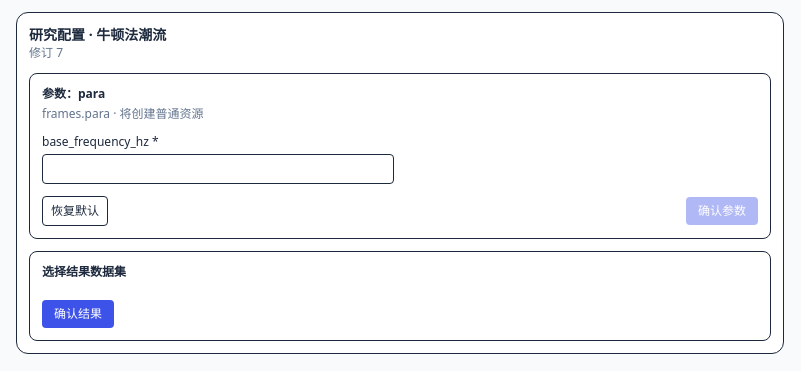
StudyConfigurationCard › shows the final confirmation after saving the last required parameter
This screenshot has width=801, height=371.
In the number field labelled "base_frequency_hz *": x=218, y=169 [42,154,394,184], type "50"
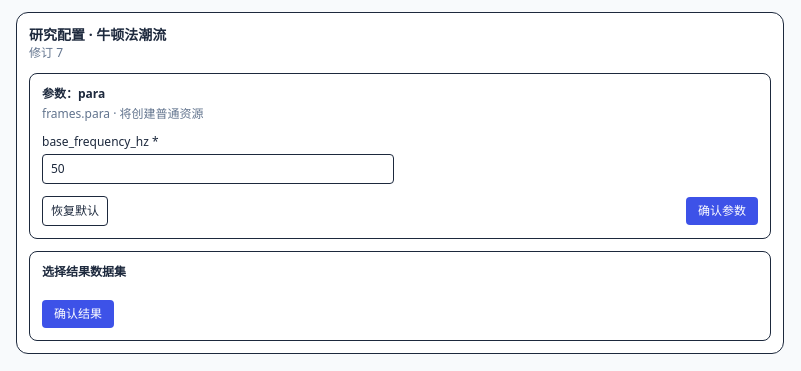
Click the button "确认参数": x=722, y=211 [686,197,758,225]
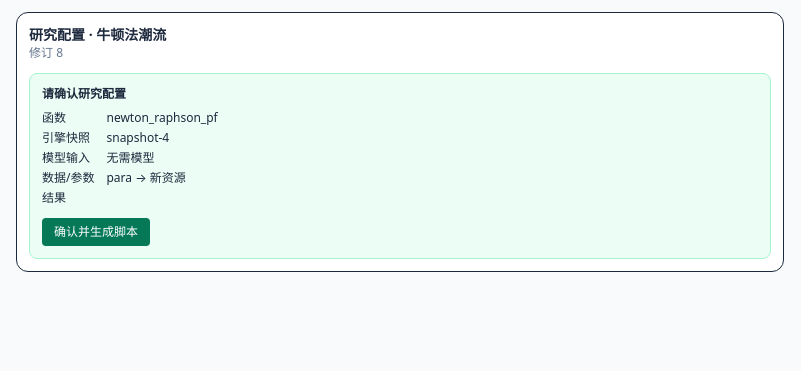
Check: the button "确认并生成脚本" is shown, box [42,218,150,246]
